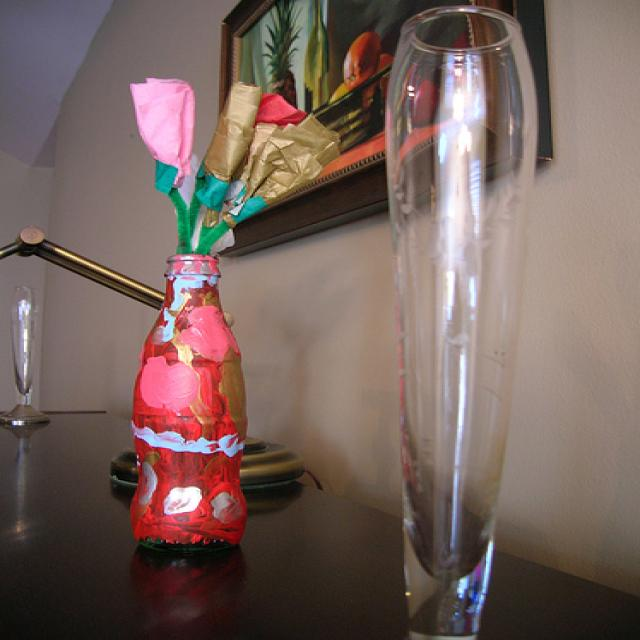bottle: (129, 254, 251, 561)
